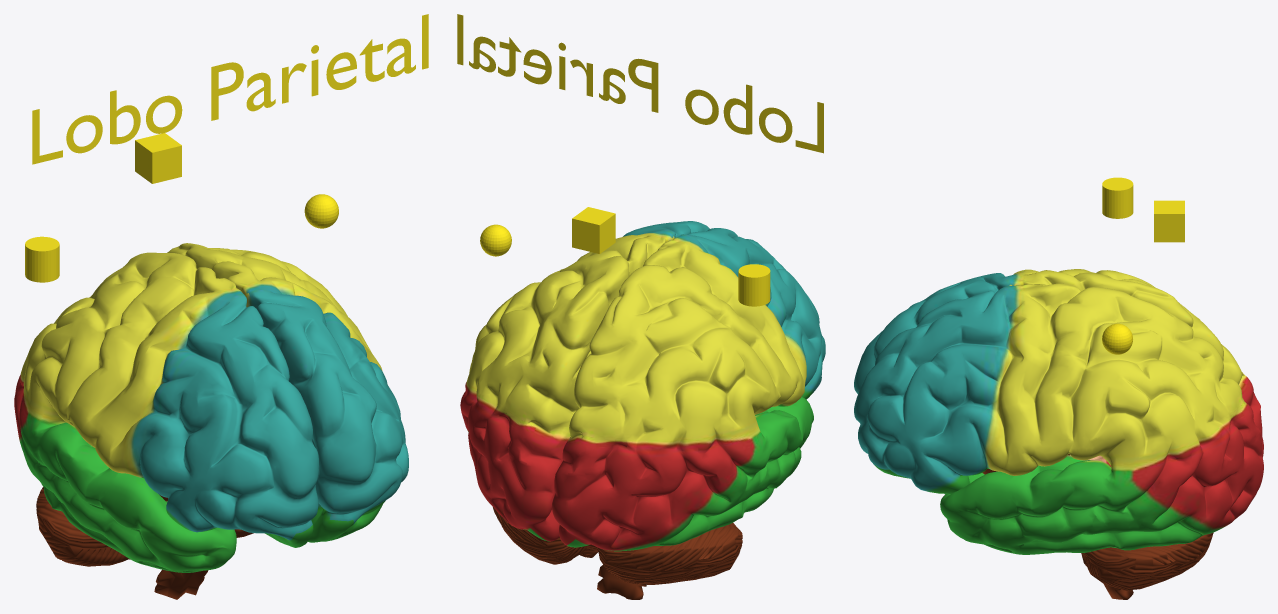
The model's file is brainEdit.glb.
The picture shows the model from 3 angles, left to right: view 1: azimuth 30°, elevation 25°; view 2: azimuth 150°, elevation 25°; view 3: azimuth 270°, elevation 25°; orthographic projection. The views are drawn at different scales.
Parts seen in each view (by area): view 1: Brain_Part_06, Brain_Part_04, Texto, Brain_Part_02, cubo, cilindro, Brain_Part_05, esfera; view 2: Brain_Part_06, Brain_Part_04, Brain_Part_02, Texto, cubo, cilindro, Brain_Part_05, esfera; view 3: Brain_Part_04, Brain_Part_06, Brain_Part_02, cubo, cilindro, esfera.
Boxes of the visible parts, left/top/right/bottom form: Brain_Part_06: left=14, top=252, right=318, bottom=572; Brain_Part_04: left=167, top=243, right=408, bottom=542; Texto: left=32, top=14, right=428, bottom=164; Brain_Part_02: left=36, top=487, right=130, bottom=566; cubo: left=135, top=133, right=181, bottom=183; cilindro: left=25, top=236, right=59, bottom=282; Brain_Part_05: left=154, top=494, right=207, bottom=599; esfera: left=304, top=194, right=338, bottom=228; Brain_Part_06: left=552, top=228, right=825, bottom=551; Brain_Part_04: left=460, top=221, right=709, bottom=541; Brain_Part_02: left=493, top=507, right=742, bottom=584; Texto: left=457, top=14, right=823, bottom=153; cubo: left=572, top=207, right=615, bottom=253; cilindro: left=738, top=264, right=770, bottom=306; Brain_Part_05: left=597, top=565, right=646, bottom=599; esfera: left=480, top=224, right=511, bottom=256; Brain_Part_04: left=854, top=283, right=1263, bottom=554; Brain_Part_06: left=854, top=269, right=1263, bottom=457; Brain_Part_02: left=1083, top=532, right=1213, bottom=590; cubo: left=1154, top=200, right=1184, bottom=242; cilindro: left=1102, top=177, right=1133, bottom=218; esfera: left=1102, top=323, right=1132, bottom=354.
Size of the model in its own units: 1.33 by 1.77 by 1.32.
2 materials, 1 textured.
